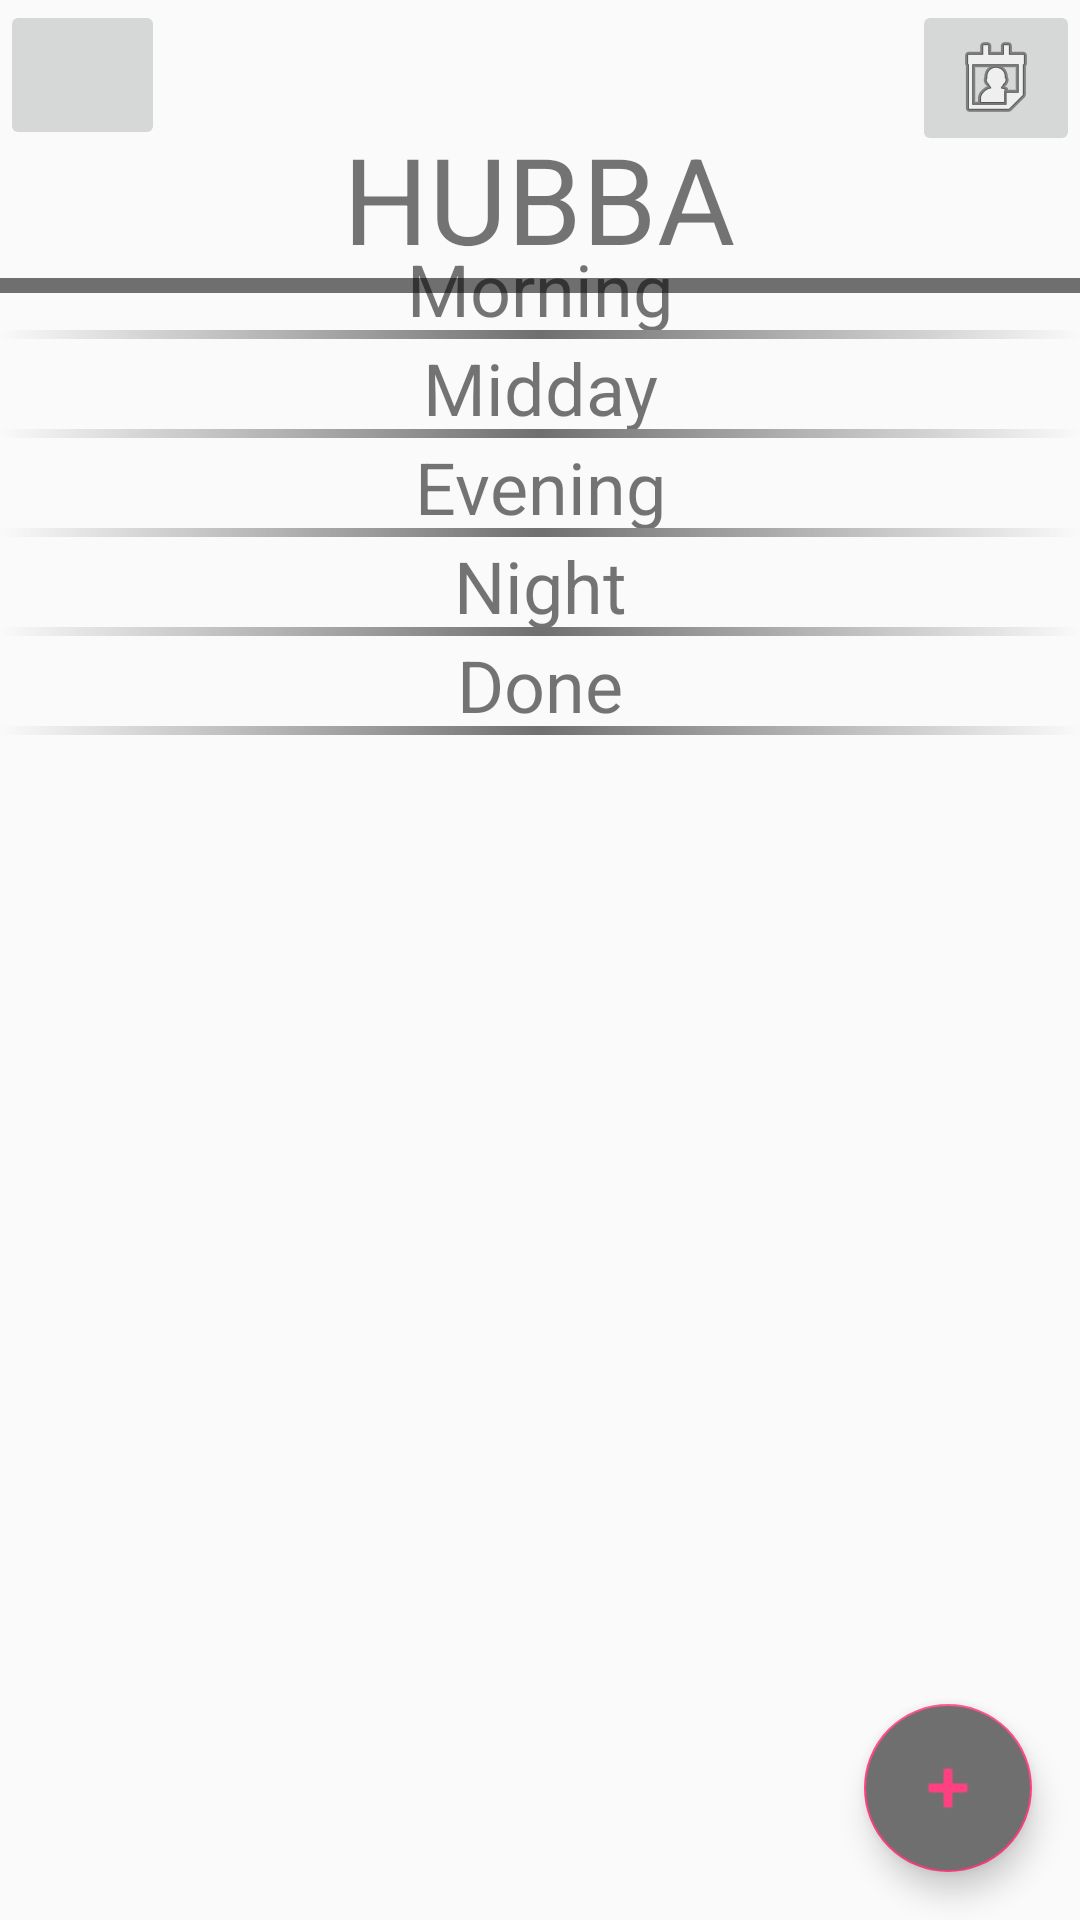

Icon click points for this 1080x1920 phone screenshot, format (x=x, y=y):
add: (x=948, y=1788)
Calendar: (x=996, y=78)
